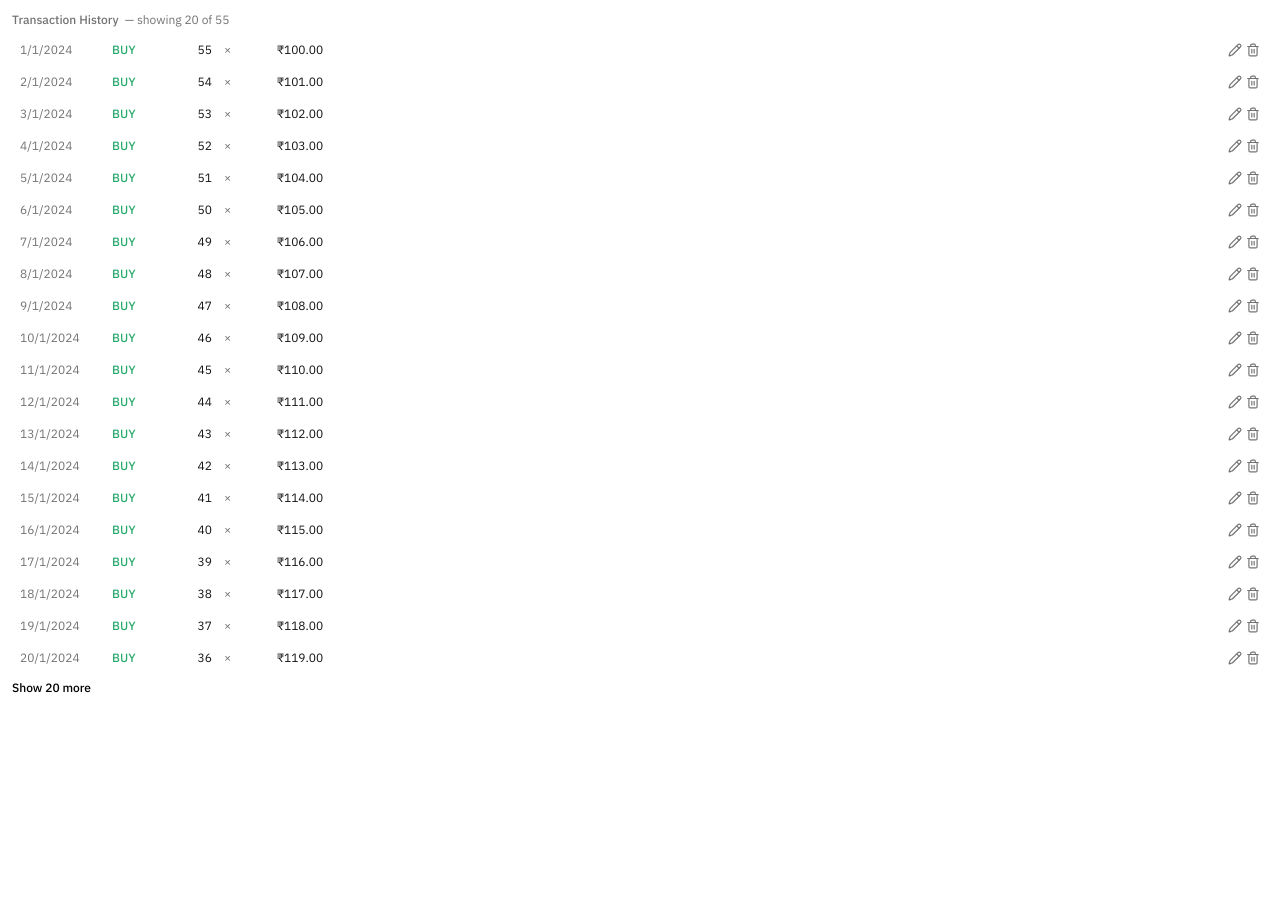
Test case: TransactionHistory paging › collapses back to the first page once expanded
Click the button "Show 20 more".
click(52, 688)  # box [12, 680, 91, 696]
(page scrolled)
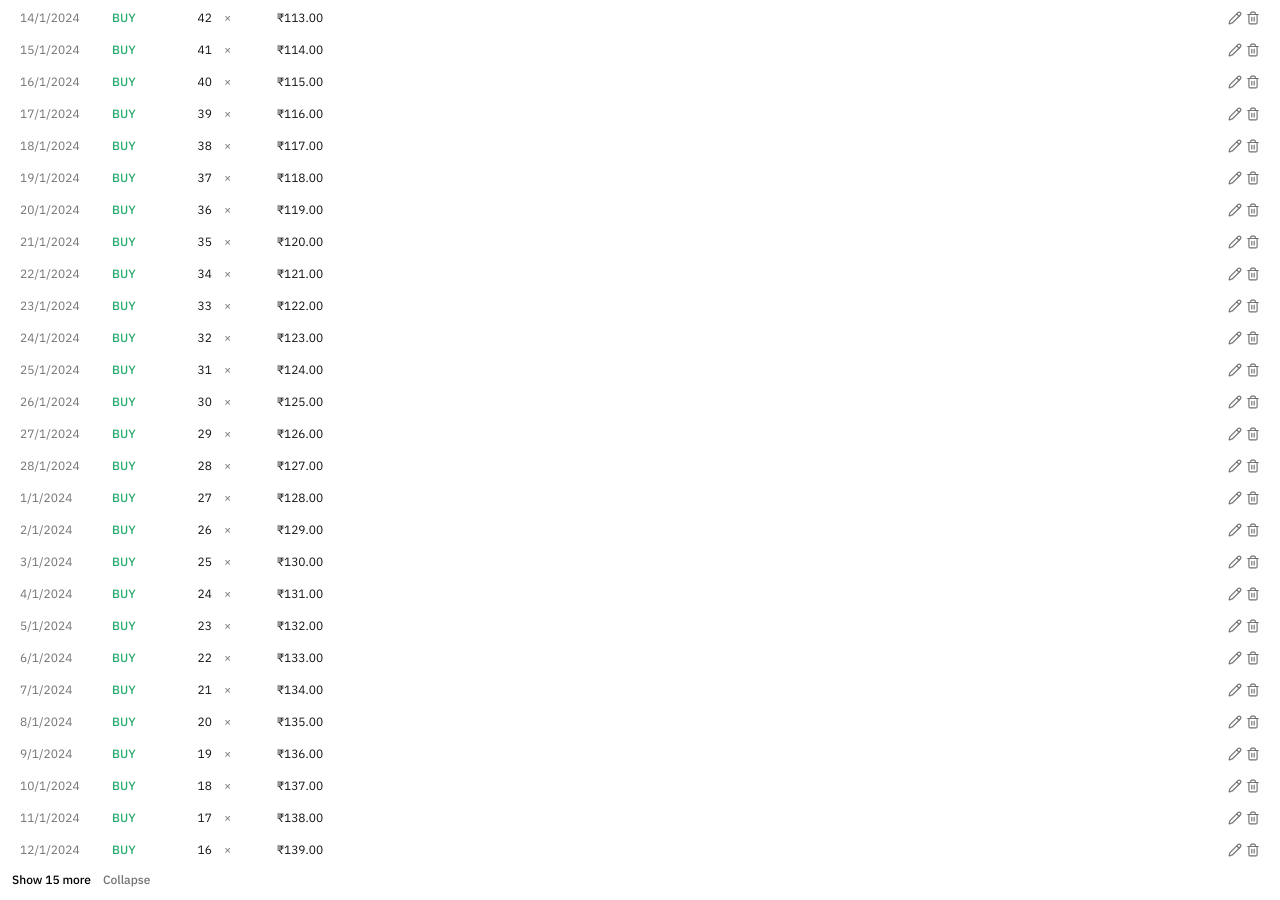
Click the button "Collapse".
click(127, 880)  # box [103, 872, 150, 888]
(page scrolled)
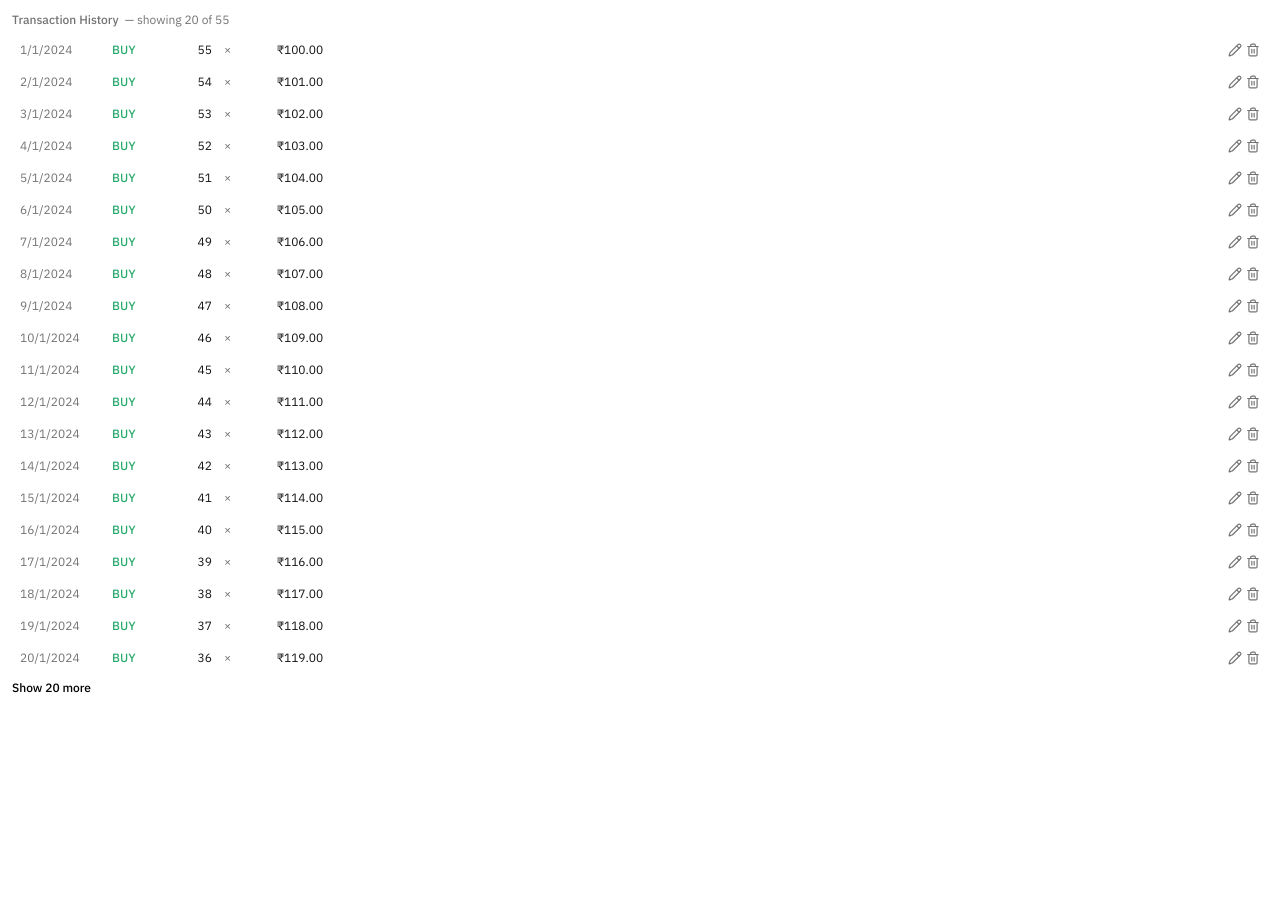
Expected: the button "Collapse" is gone
